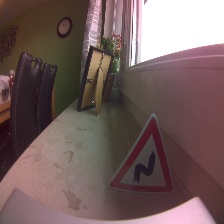vorsicht: (103, 112, 176, 196)
